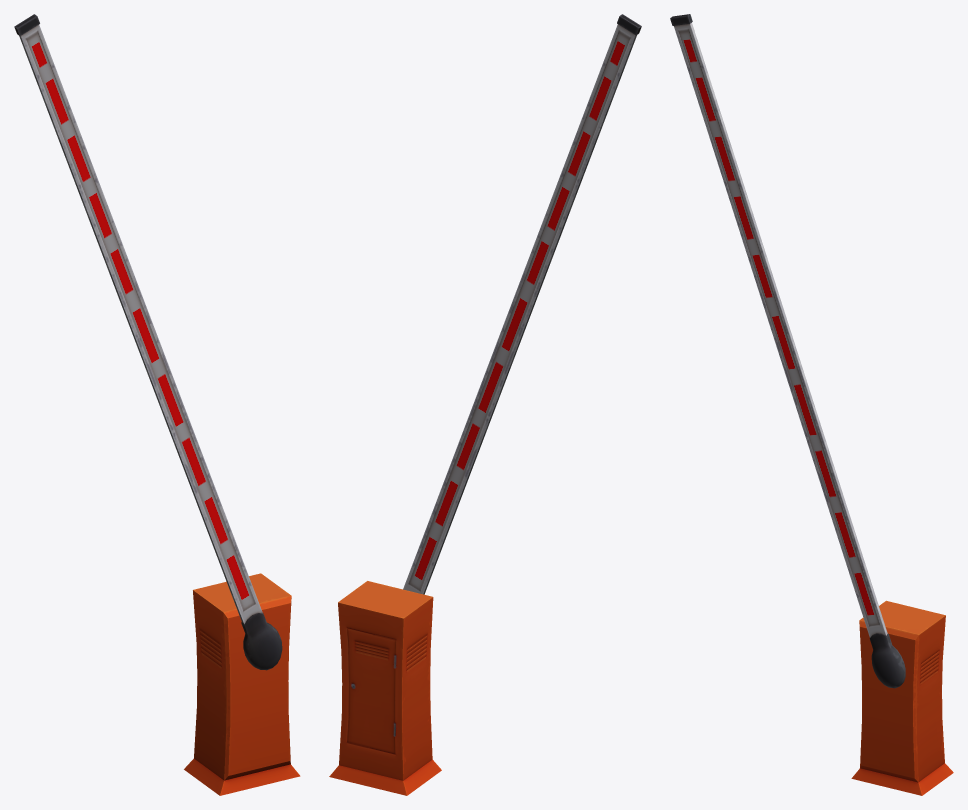
Rendered from BarrierArm01_2.FBX.
The picture shows the model from 3 angles, left to right: view 1: azimuth 30°, elevation 25°; view 2: azimuth 150°, elevation 25°; view 3: azimuth 330°, elevation 25°; orthographic projection. The views are drawn at different scales.
Visible parts, largest first — view 1: BarrierArm01_2; view 2: BarrierArm01_2; view 3: BarrierArm01_2.
Boxes of the visible parts, <box> form: BarrierArm01_2: <box>14,14,300,795</box>; BarrierArm01_2: <box>329,14,641,795</box>; BarrierArm01_2: <box>670,14,953,795</box>.
Size of what is drawn, in the model's own units: 1.84 by 5.1 by 0.4704.
